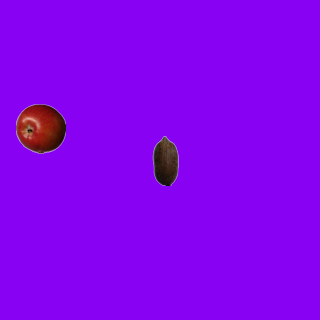Apple Braeburn: (15, 103, 65, 153)
Nut Pecan: (140, 135, 190, 185)
